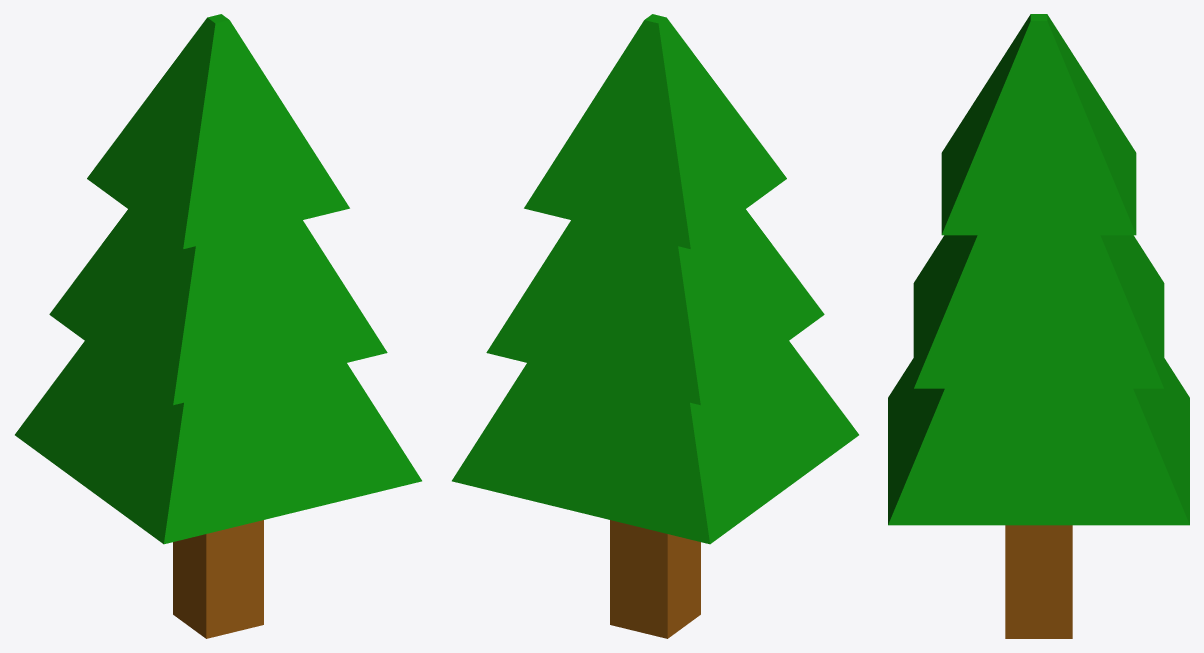
The model's file is Tree.fbx.
3 views of the same model, side by side, from view 1: azimuth 30°, elevation 25°; view 2: azimuth 150°, elevation 25°; view 3: azimuth 270°, elevation 25° (orthographic).
Parts seen in each view (by area): view 1: Tree; view 2: Tree; view 3: Tree.
Part boxes in pixels (box(x1,y1,x2,y2)): Tree: box(15, 14, 421, 638); Tree: box(452, 14, 858, 638); Tree: box(888, 14, 1189, 638).
Bounding box in the file's own units: 276 × 612 × 276.
